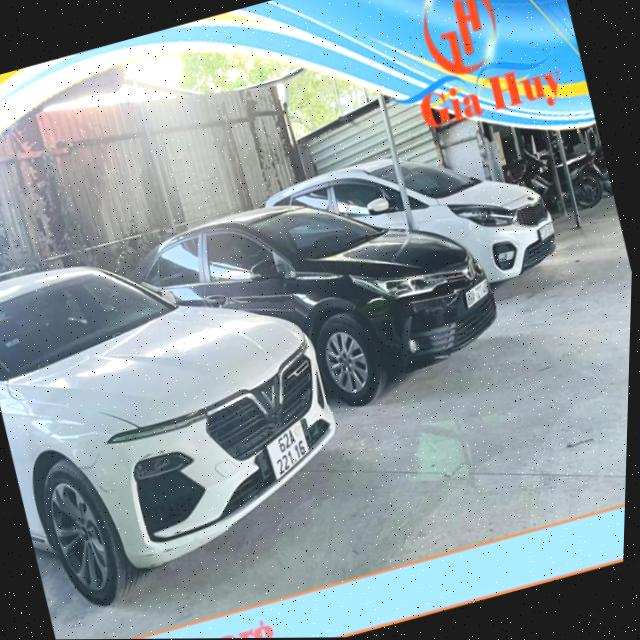car: (24, 129, 578, 499), (0, 196, 373, 604)
plate: (254, 415, 321, 485)
